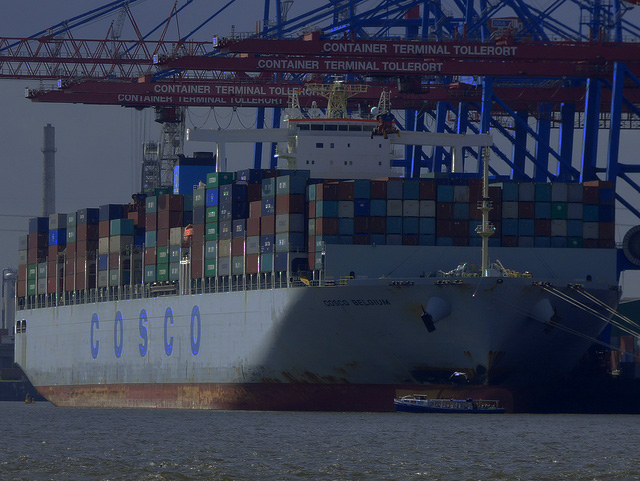boat: (393, 392, 503, 412)
container_ship: (15, 100, 622, 409)
